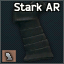AR-15 Stark AR Rifle grip Black: (0, 0, 64, 64)
